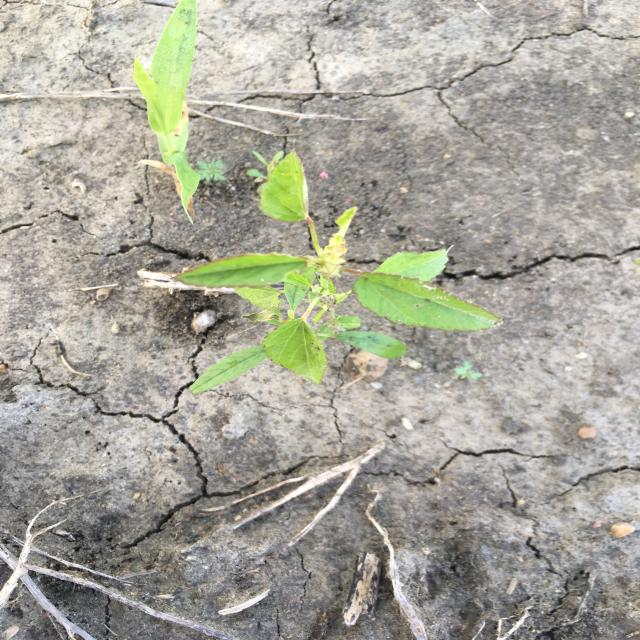PricklySida: (166, 147, 506, 386)
Ragweed: (193, 157, 230, 183)
Waterhemp: (187, 259, 408, 396)
